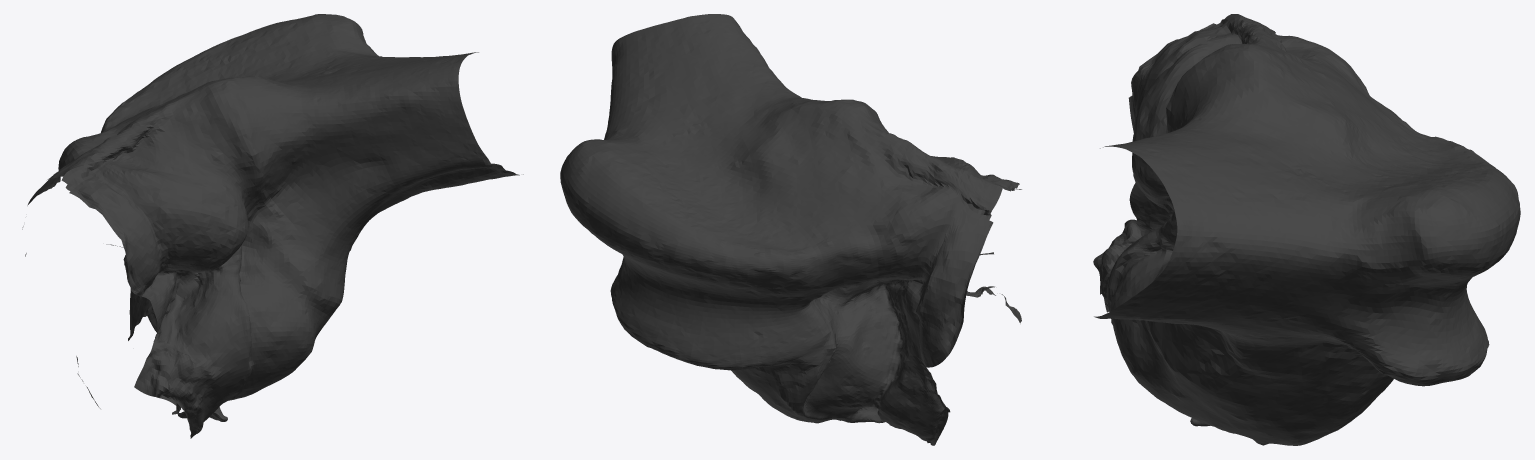
The picture shows the model from 3 angles, left to right: view 1: azimuth 30°, elevation 25°; view 2: azimuth 150°, elevation 25°; view 3: azimuth 270°, elevation 25°; orthographic projection. The views are drawn at different scales.
Visible parts, largest first — view 1: Group65484; view 2: Group65484; view 3: Group65484.
Boxes of the visible parts, x1,y1,x2,y2 form: Group65484: [22, 14, 523, 438]; Group65484: [560, 14, 1021, 445]; Group65484: [1093, 14, 1520, 445].
Size of the model in its own units: 1.96 by 1.47 by 1.47.
Materials: 1 (1 with a texture image).
